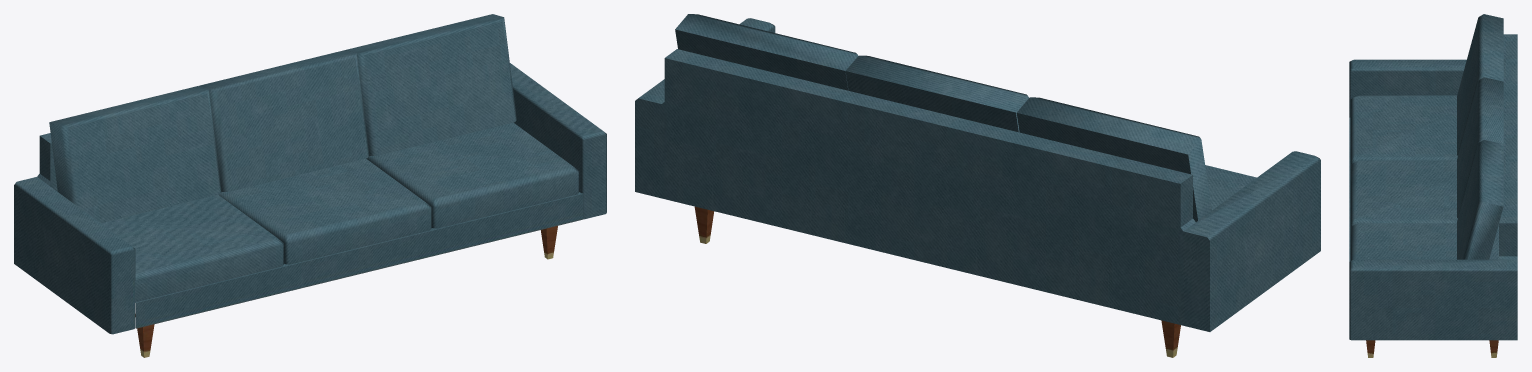
Rendered from Couch.glb.
3 renders of one model, left to right at view 1: azimuth 30°, elevation 25°; view 2: azimuth 150°, elevation 25°; view 3: azimuth 270°, elevation 25°, orthographic. The views are drawn at different scales.
Visible parts, largest first — view 1: couch1; view 2: couch1; view 3: couch1.
Part boxes in pixels (left/top/right/bottom): couch1: left=14, top=14, right=606, bottom=357; couch1: left=635, top=14, right=1320, bottom=357; couch1: left=1349, top=14, right=1517, bottom=357.
Size of the model in its own units: 3.31 by 1.2 by 1.12.
Materials: 1 (1 with a texture image).
